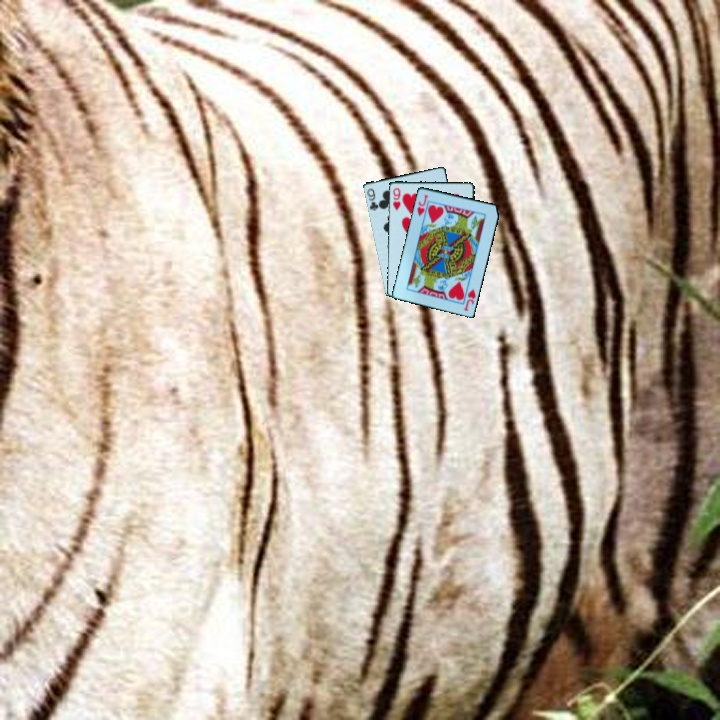9c: (363, 185, 381, 213)
9h: (389, 184, 403, 213)
Jh: (413, 191, 431, 219), (460, 285, 478, 313)
